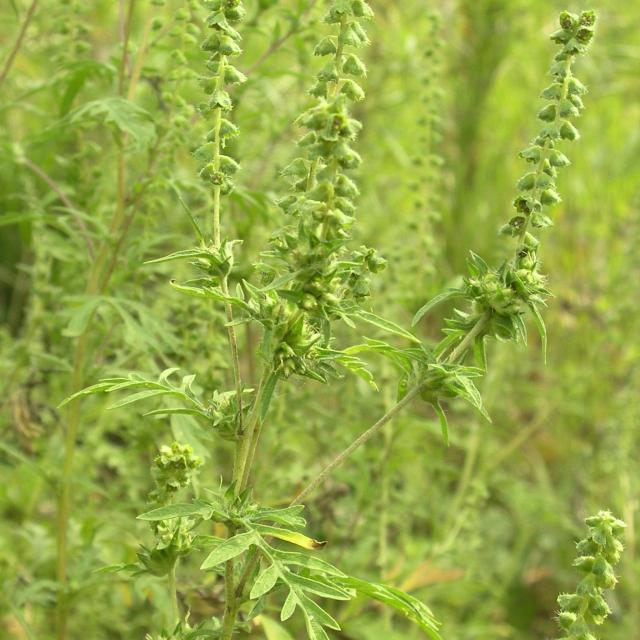ambrosia: (276, 0, 406, 379), (124, 401, 341, 616), (504, 0, 628, 355), (139, 0, 263, 245), (547, 476, 640, 640)
